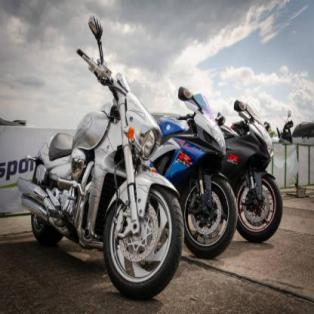Motocicleta: (16, 14, 184, 299), (157, 76, 240, 257), (222, 91, 287, 243)
